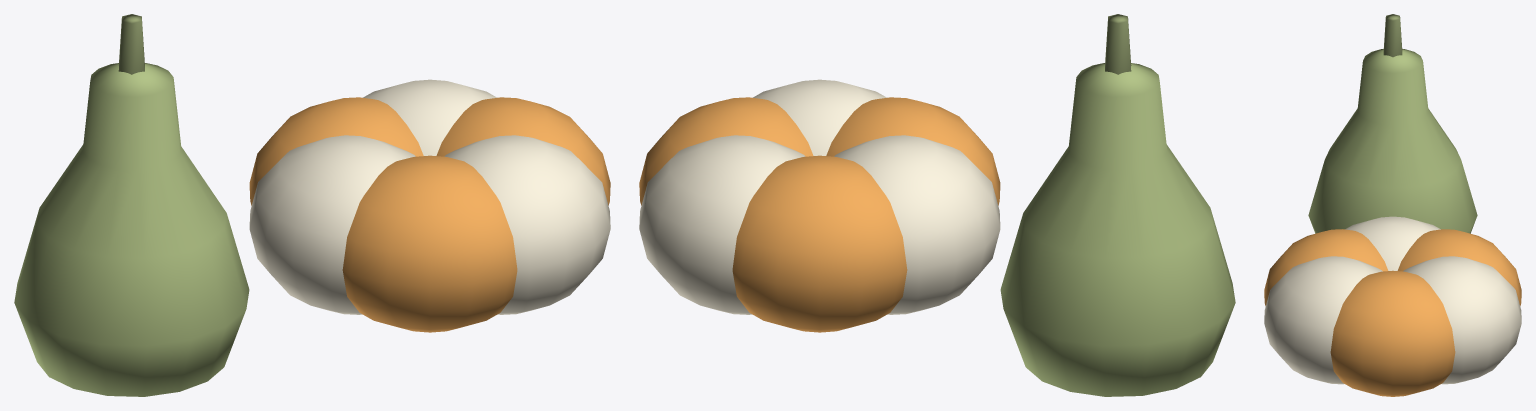
The model's file is Gourd_Pair.fbx.
The picture shows the model from 3 angles, left to right: view 1: azimuth 30°, elevation 25°; view 2: azimuth 150°, elevation 25°; view 3: azimuth 270°, elevation 25°; orthographic projection. The views are drawn at different scales.
Parts seen in each view (by area): view 1: Gourd_Pair_Mesh; view 2: Gourd_Pair_Mesh; view 3: Gourd_Pair_Mesh.
Boxes of the visible parts, x1,y1,x2,y2 form: Gourd_Pair_Mesh: [14, 14, 610, 396]; Gourd_Pair_Mesh: [639, 14, 1235, 396]; Gourd_Pair_Mesh: [1264, 14, 1521, 396].
Bounding box in the file's own units: 0.342 × 0.195 × 0.1888.
